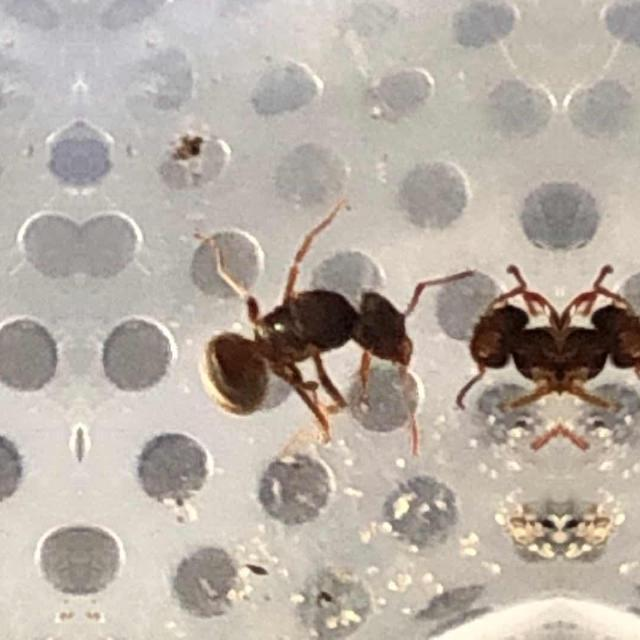Lasius: (178, 208, 438, 454), (449, 256, 559, 468), (558, 255, 640, 468)
